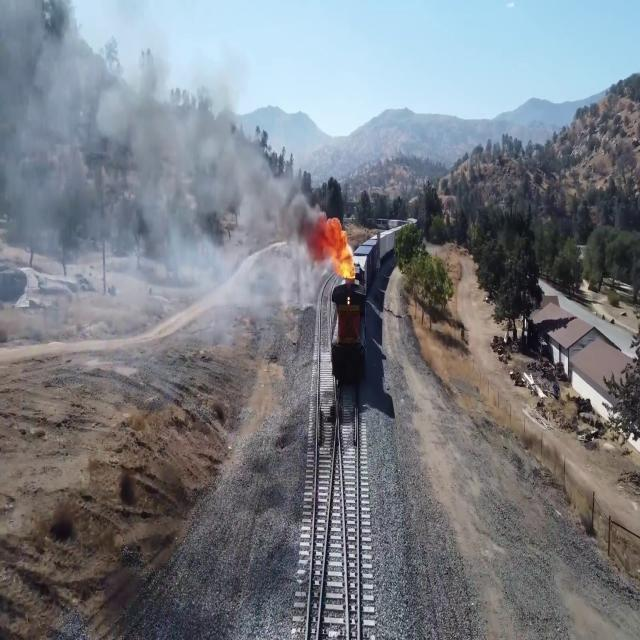Fire: (318, 217, 358, 283)
Smoke: (246, 155, 316, 250)
